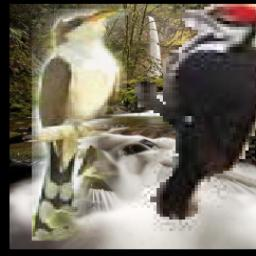Cuckoo: (32, 9, 127, 241)
Woodpecker: (94, 4, 256, 242)
